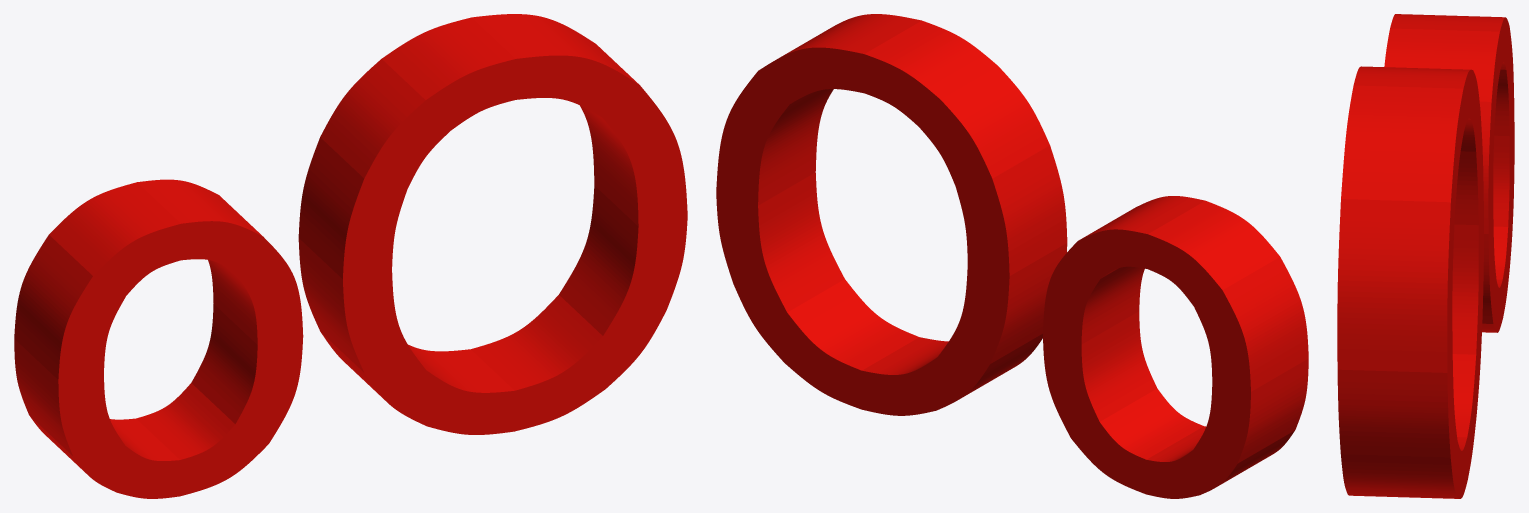
The picture shows the model from 3 angles, left to right: view 1: azimuth 30°, elevation 25°; view 2: azimuth 150°, elevation 25°; view 3: azimuth 270°, elevation 25°; orthographic projection. The views are drawn at different scales.
Parts seen in each view (by area): view 1: Mesh_0.019; view 2: Mesh_0.019; view 3: Mesh_0.019.
Part boxes in pixels (x1=…): Mesh_0.019: x1=14, y1=14, x2=687, y2=498; Mesh_0.019: x1=716, y1=14, x2=1308, y2=498; Mesh_0.019: x1=1337, y1=14, x2=1514, y2=498.
Size of the model in its own units: 12.54 by 7.43 by 3.04.
